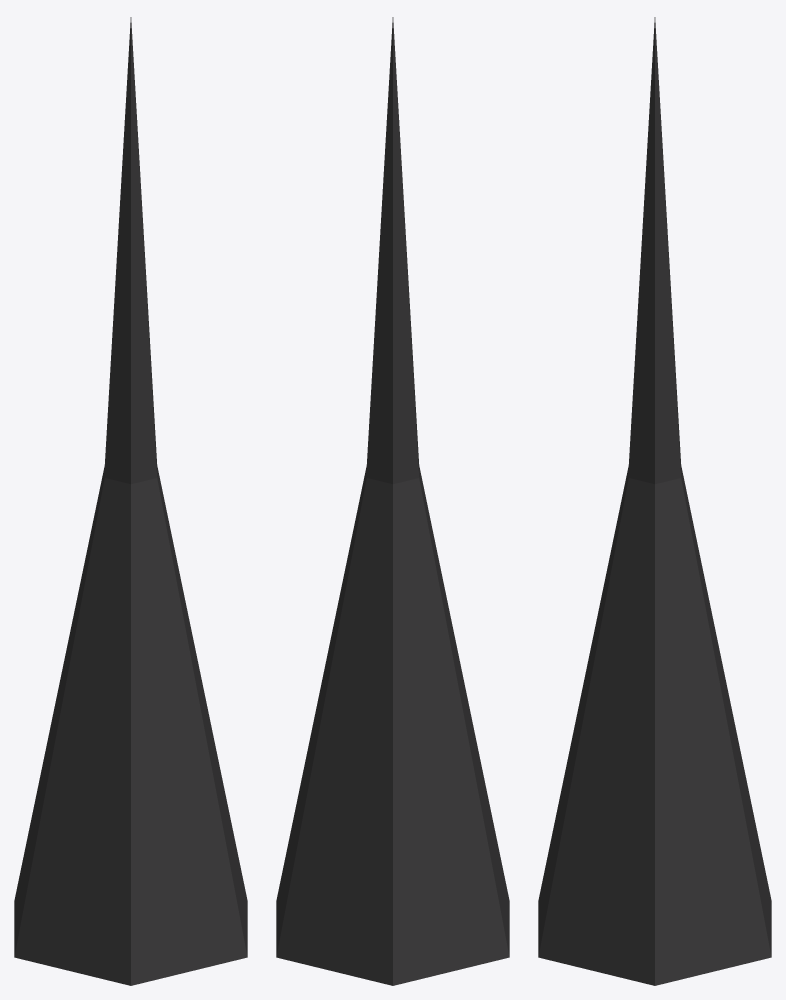
The model's file is Stal_1B.fbx.
3 renders of one model, left to right at view 1: azimuth 30°, elevation 25°; view 2: azimuth 150°, elevation 25°; view 3: azimuth 270°, elevation 25°, orthographic.
Parts seen in each view (by area): view 1: pCone40; view 2: pCone40; view 3: pCone40.
Boxes of the visible parts, x1=… form: pCone40: x1=14, y1=17, x2=247, y2=985; pCone40: x1=276, y1=17, x2=509, y2=985; pCone40: x1=538, y1=17, x2=771, y2=985.
Size of the model in its own units: 0.4 by 1.5 by 0.3464.
